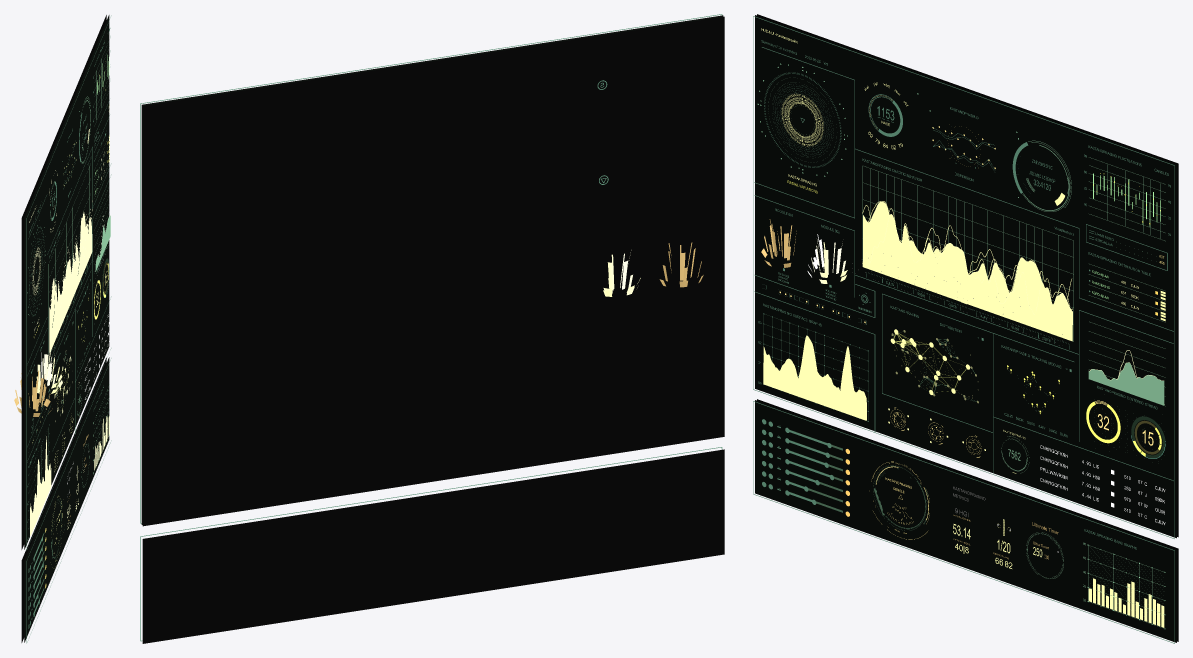
Rendered from hud.glb.
The picture shows the model from 3 angles, left to right: view 1: azimuth 30°, elevation 25°; view 2: azimuth 150°, elevation 25°; view 3: azimuth 270°, elevation 25°; orthographic projection. The views are drawn at different scales.
Parts seen in each view (by area): view 1: HUDUI_rectangle.024, HUDUI_rectangle.026, HUDUI_rectangle.023, HUDUI_perlin_noise_object.005, HUDUI_rectangle.022, HUDUI_perlin_noise_object.012, HUDUI_rectangle, HUDUI_perlin_noise_object.007, HUDUI_perlin_noise_object.006, HUDUI_rectangle.001, HUDUI_perlin_noise_object.004, HUDUI_perlin_noise_object.008 (+6 smaller); view 2: HUDUI_rectangle.023, HUDUI_rectangle.022, HUDUI_rectangle.024, HUDUI_rectangle, HUDUI_rectangle.001; view 3: HUDUI_rectangle.024, HUDUI_rectangle.026, HUDUI_perlin_noise_object.005, HUDUI_perlin_noise_object.012, HUDUI_rectangle, HUDUI_rectangle.023, HUDUI_perlin_noise_object.006, HUDUI_perlin_noise_object.008, HUDUI_perlin_noise_object.007, HUDUI_perlin_noise_object.004, HUDUI_rectangle.001, HUDUI_rectangle.022 (+7 smaller).
Boxes of the visible parts, <box> form: HUDUI_rectangle.024: <box>24,15,109,549</box>; HUDUI_rectangle.026: <box>24,357,109,642</box>; HUDUI_rectangle.023: <box>21,15,106,549</box>; HUDUI_perlin_noise_object.005: <box>50,217,92,350</box>; HUDUI_rectangle.022: <box>21,357,106,642</box>; HUDUI_perlin_noise_object.012: <box>49,213,89,352</box>; HUDUI_rectangle: <box>26,15,111,550</box>; HUDUI_perlin_noise_object.007: <box>30,463,50,535</box>; HUDUI_perlin_noise_object.006: <box>30,468,51,535</box>; HUDUI_rectangle.001: <box>26,358,111,643</box>; HUDUI_perlin_noise_object.004: <box>94,415,109,470</box>; HUDUI_perlin_noise_object.008: <box>95,215,110,271</box>; HUDUI_rectangle.023: <box>142,16,724,526</box>; HUDUI_rectangle.022: <box>142,449,724,643</box>; HUDUI_rectangle.024: <box>141,15,723,524</box>; HUDUI_rectangle: <box>140,14,722,523</box>; HUDUI_rectangle.001: <box>140,447,722,641</box>; HUDUI_rectangle.024: <box>755,15,1176,538</box>; HUDUI_rectangle.026: <box>755,400,1176,642</box>; HUDUI_perlin_noise_object.005: <box>862,214,1072,341</box>; HUDUI_perlin_noise_object.012: <box>863,202,1072,324</box>; HUDUI_rectangle: <box>753,16,1174,538</box>; HUDUI_rectangle.023: <box>757,14,1178,537</box>; HUDUI_perlin_noise_object.006: <box>763,362,866,420</box>; HUDUI_perlin_noise_object.008: <box>1088,362,1164,405</box>; HUDUI_perlin_noise_object.007: <box>763,346,866,420</box>; HUDUI_perlin_noise_object.004: <box>1088,578,1164,627</box>; HUDUI_rectangle.001: <box>753,401,1174,643</box>; HUDUI_rectangle.022: <box>757,399,1178,641</box>.
Bounding box in the file's own units: 2.49 × 3.67 × 2.95.
